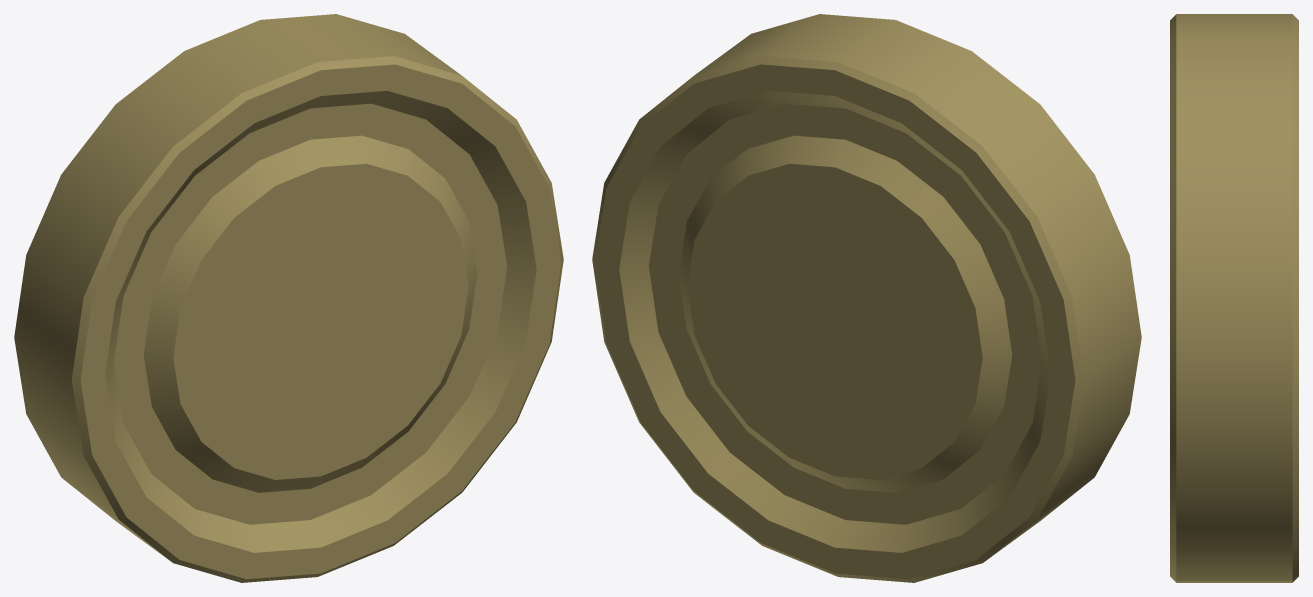
The model's file is Coin.fbx.
3 views of the same model, side by side, from view 1: azimuth 30°, elevation 25°; view 2: azimuth 150°, elevation 25°; view 3: azimuth 270°, elevation 25° (orthographic).
Parts seen in each view (by area): view 1: Coin; view 2: Coin; view 3: Coin.
Boxes of the visible parts, box(x1,y1,x2,y2) form: Coin: box(14, 14, 563, 582); Coin: box(592, 14, 1141, 582); Coin: box(1170, 14, 1298, 582).
Bounding box in the file's own units: 93.9 × 93.9 × 21.12.
